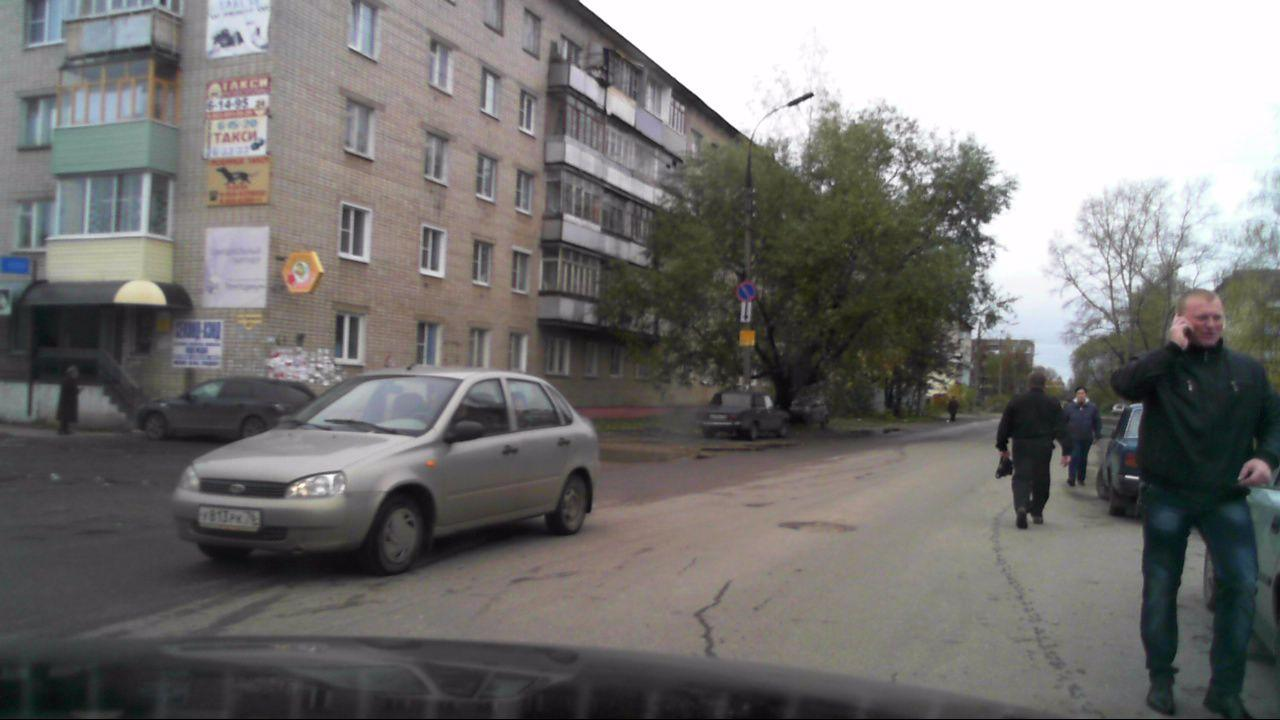road_sign: (736, 280, 757, 300), (740, 300, 751, 322)
